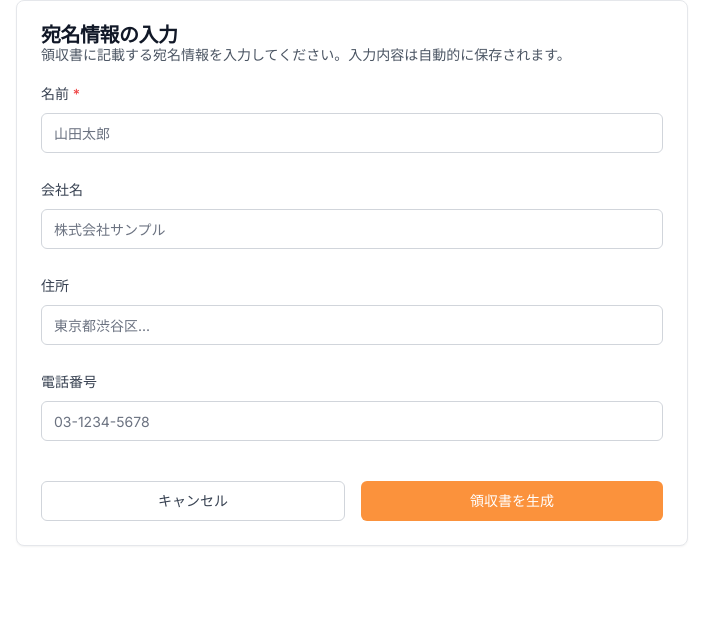
Test: CustomerInfoForm › エラー状態の回復 › エラーがあるフィールドを修正するとエラーが消える
// 無効な電話番号を入力してエラーを発生させる
Type "invalid-phone" into the field labelled "電話番号" at coordinates (352, 421), box [41,401,663,441]
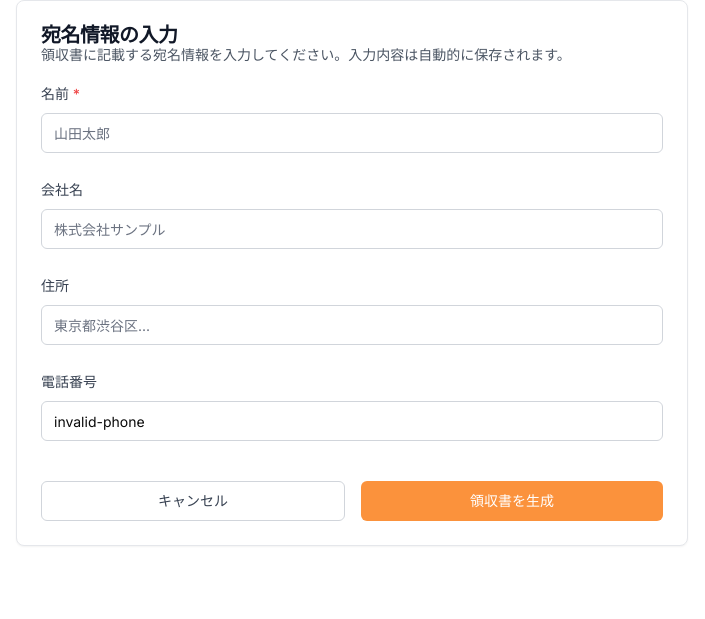
Click the button "領収書を生成" at coordinates (512, 501), box [361,481,663,521]
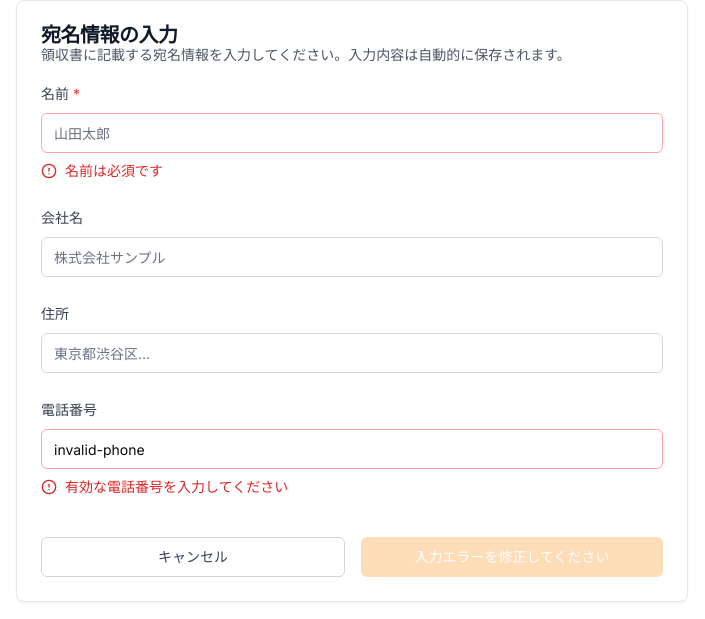
Expected: the text "有効な電話番号を入力してください" is shown, [65,477,288,497]
// 有効な電話番号に修正
Replace the text in the field labelled "電話番号" with "03-1234-5678" at coordinates (352, 449), box [41,429,663,469]
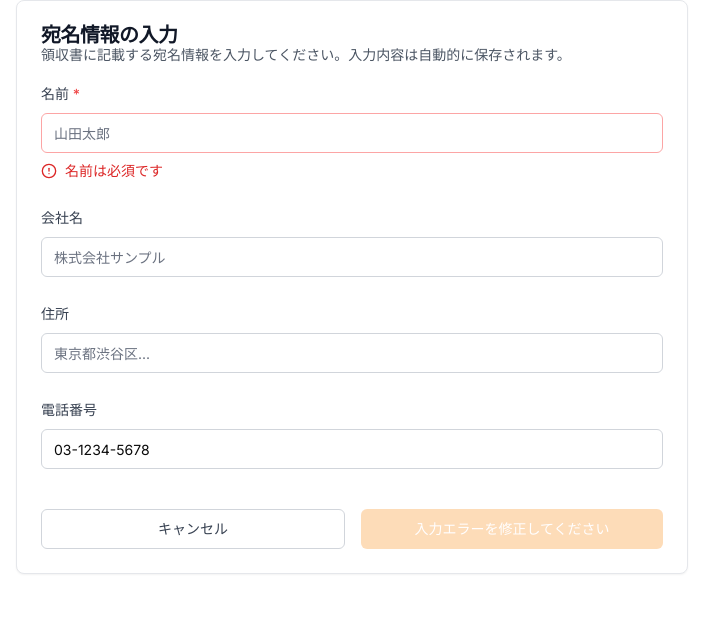
Expected: the text "有効な電話番号を入力してください" is gone
